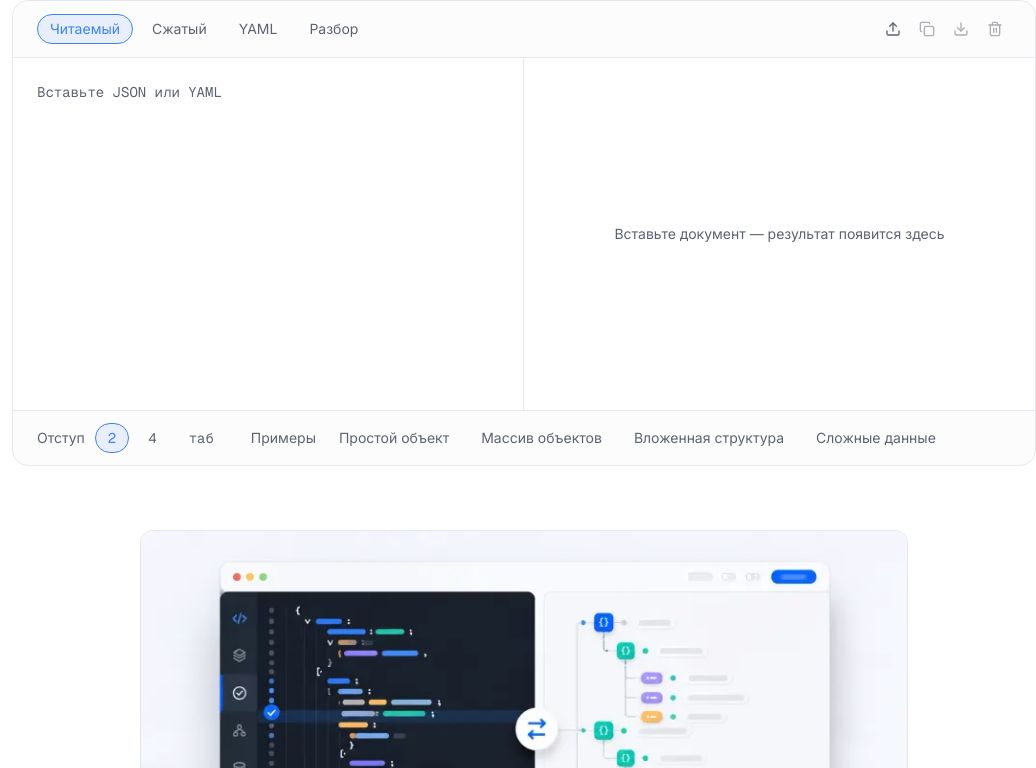
json-tools: перевод между JSON и YAML › переводит вставленный JSON в YAML
This screenshot has width=1036, height=768.
Click the text box at {"x": 268, "y": 234}, box top-left (13, 58), bottom-right (524, 410)
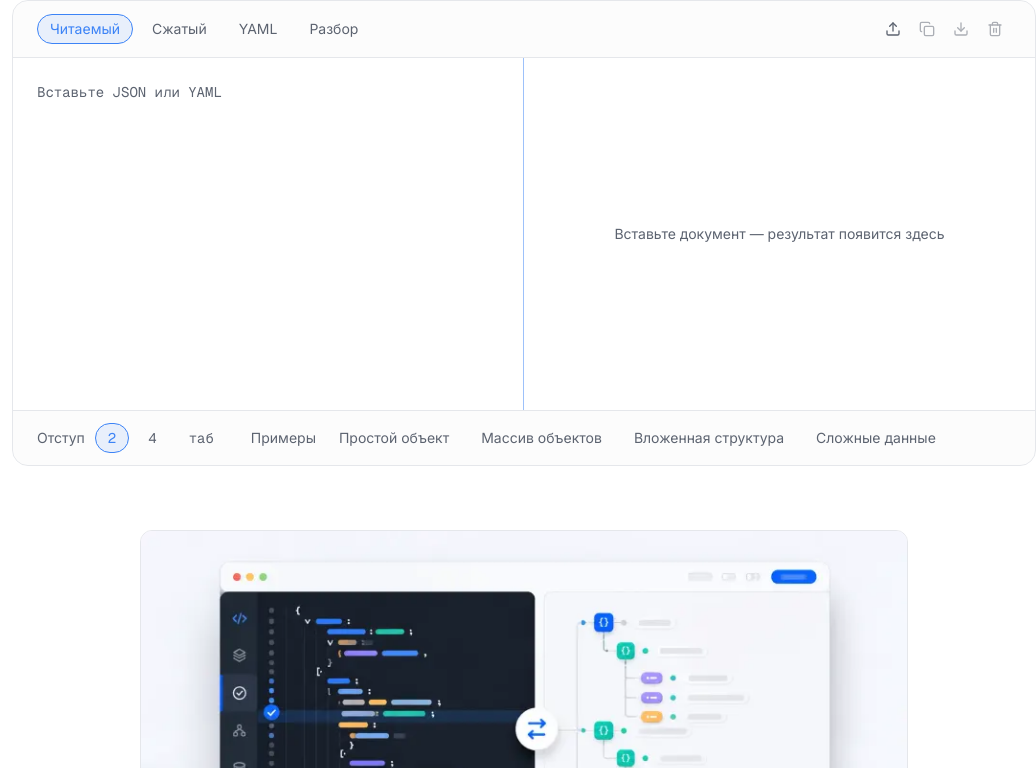
Type keys "{\"name\":\"Аня\",\"tags\":[\"a\",\"b\"]}"
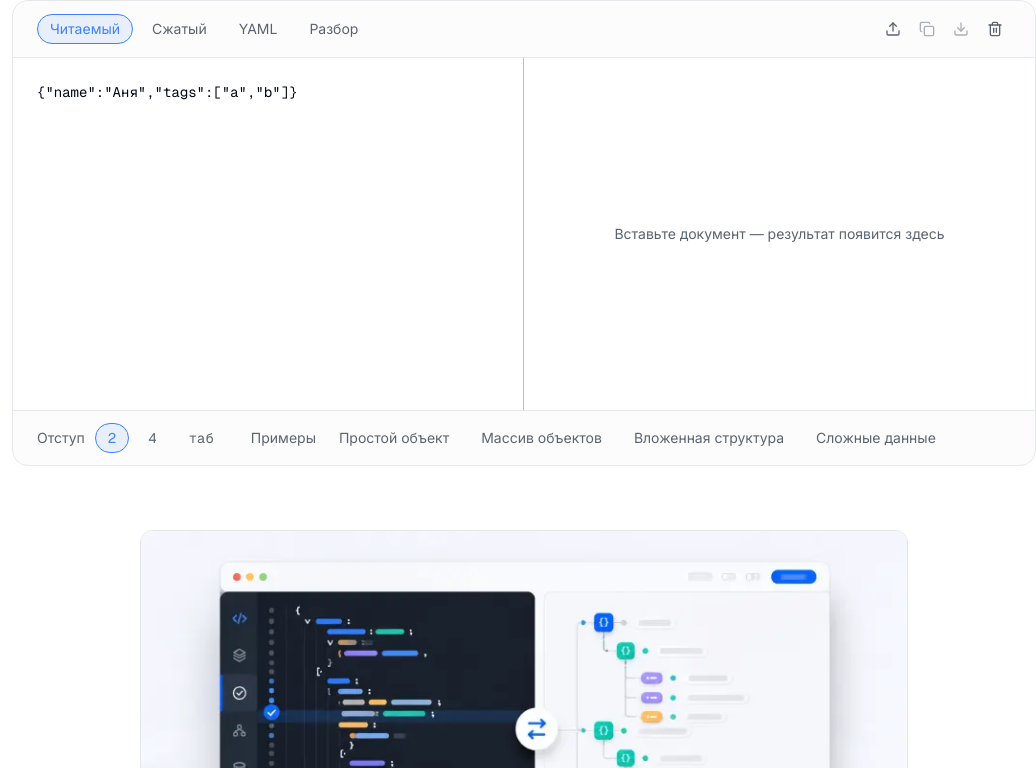
Click the button "YAML" at {"x": 258, "y": 29}, box top-left (226, 14), bottom-right (290, 44)
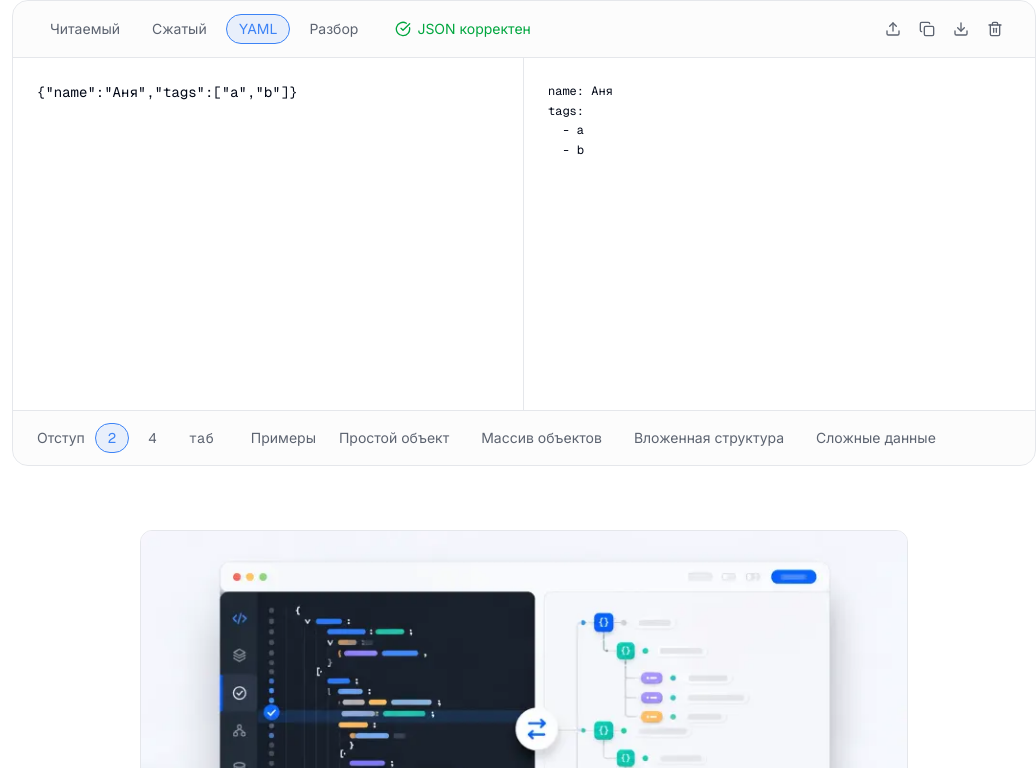
expect the text "name: Аня tags: - a - b" is shown: met, box top-left (548, 83), bottom-right (613, 158)
